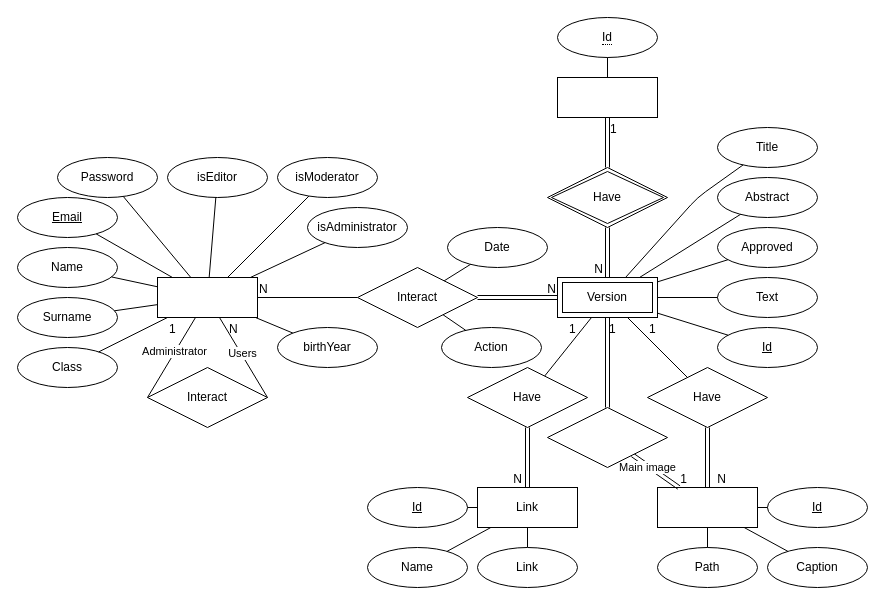
The diagram is 885 pixels wide and 605 high, and some of its shapes have lost their labels. The box of each missing label's shape, as (x1, y1, x2, y2) in pixels:
Article: (556, 76, 658, 118)
Image: (656, 486, 758, 528)
Use: (546, 406, 668, 468)
User: (156, 276, 258, 318)
